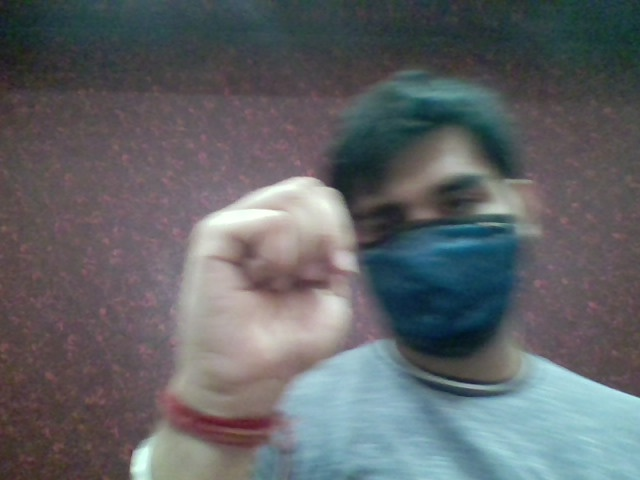m: (165, 171, 370, 385)
